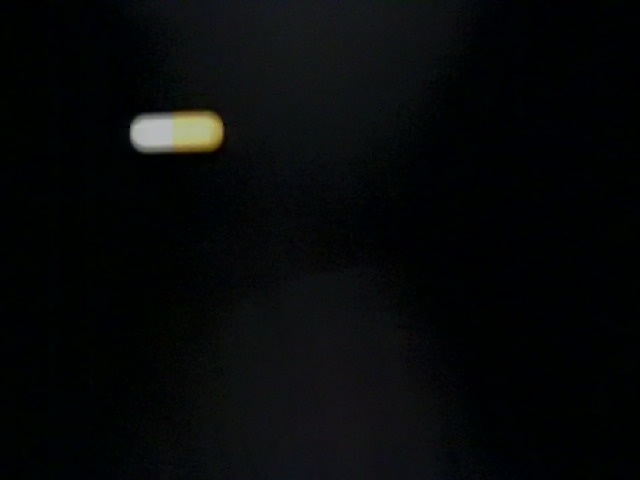YHLJ: (295, 182, 413, 248)
